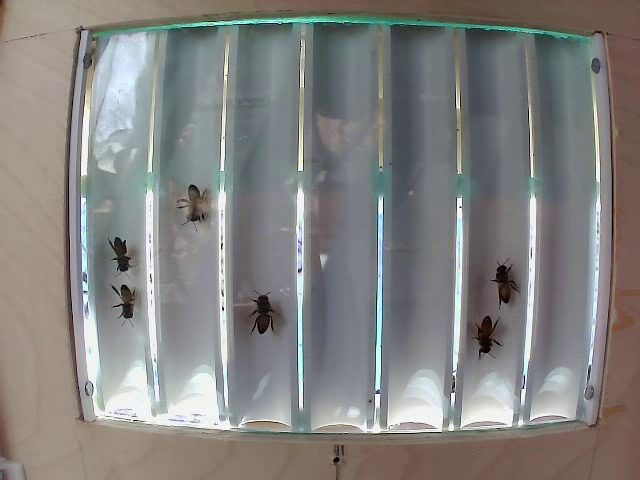bee: (235, 283, 300, 335), (102, 229, 150, 281), (102, 276, 147, 328), (177, 169, 215, 224), (465, 306, 500, 359), (489, 252, 523, 304)
